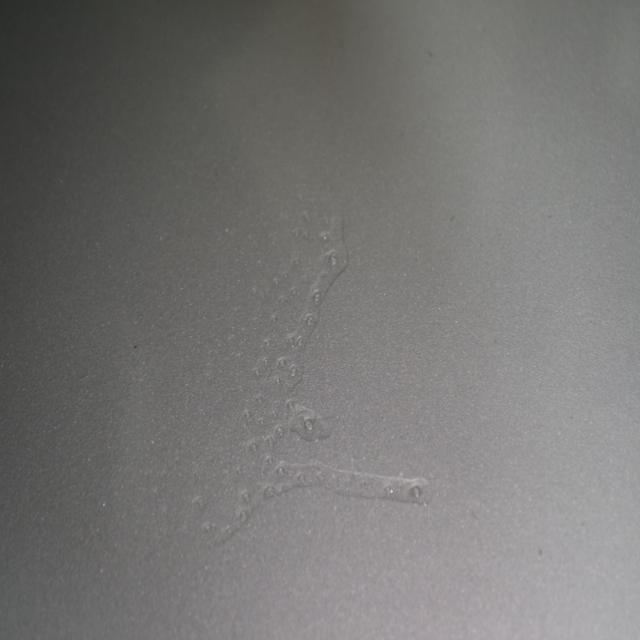dirt: (536, 545, 547, 561), (427, 47, 436, 60), (131, 342, 138, 354)
runs: (200, 206, 431, 568)
